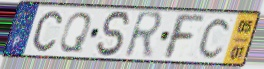C: (197, 16, 233, 61), (31, 9, 64, 54)
F: (163, 12, 206, 61)
Q: (57, 11, 94, 54)
R: (122, 10, 165, 61)
S: (95, 9, 134, 59)
